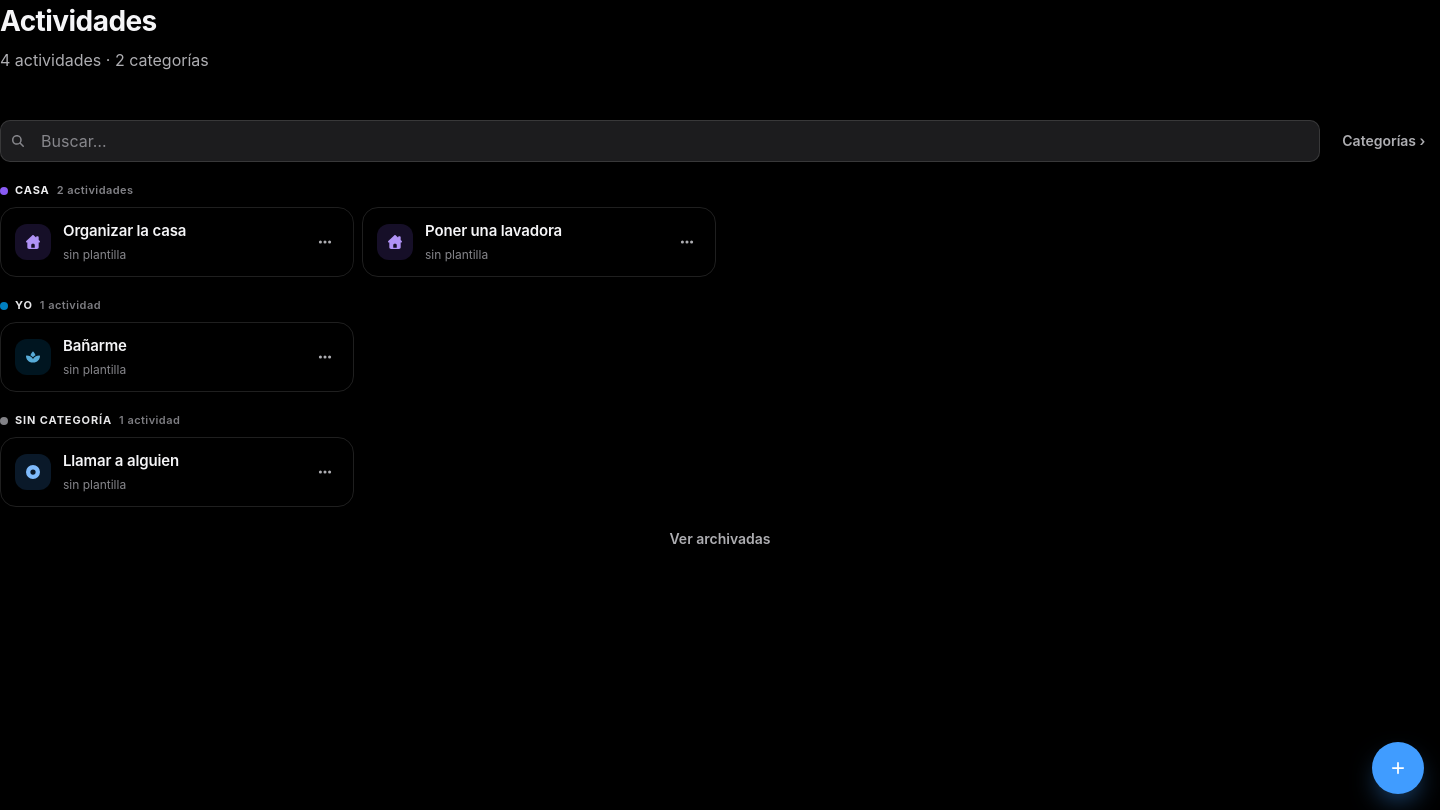
Test: VidaActividadesPage › el «···» de una tarjeta abre la misma hoja ya rellena (criterio 15)
Click the button named "Más opciones de Bañarme" at x=325, y=357, box [311,343,339,371]
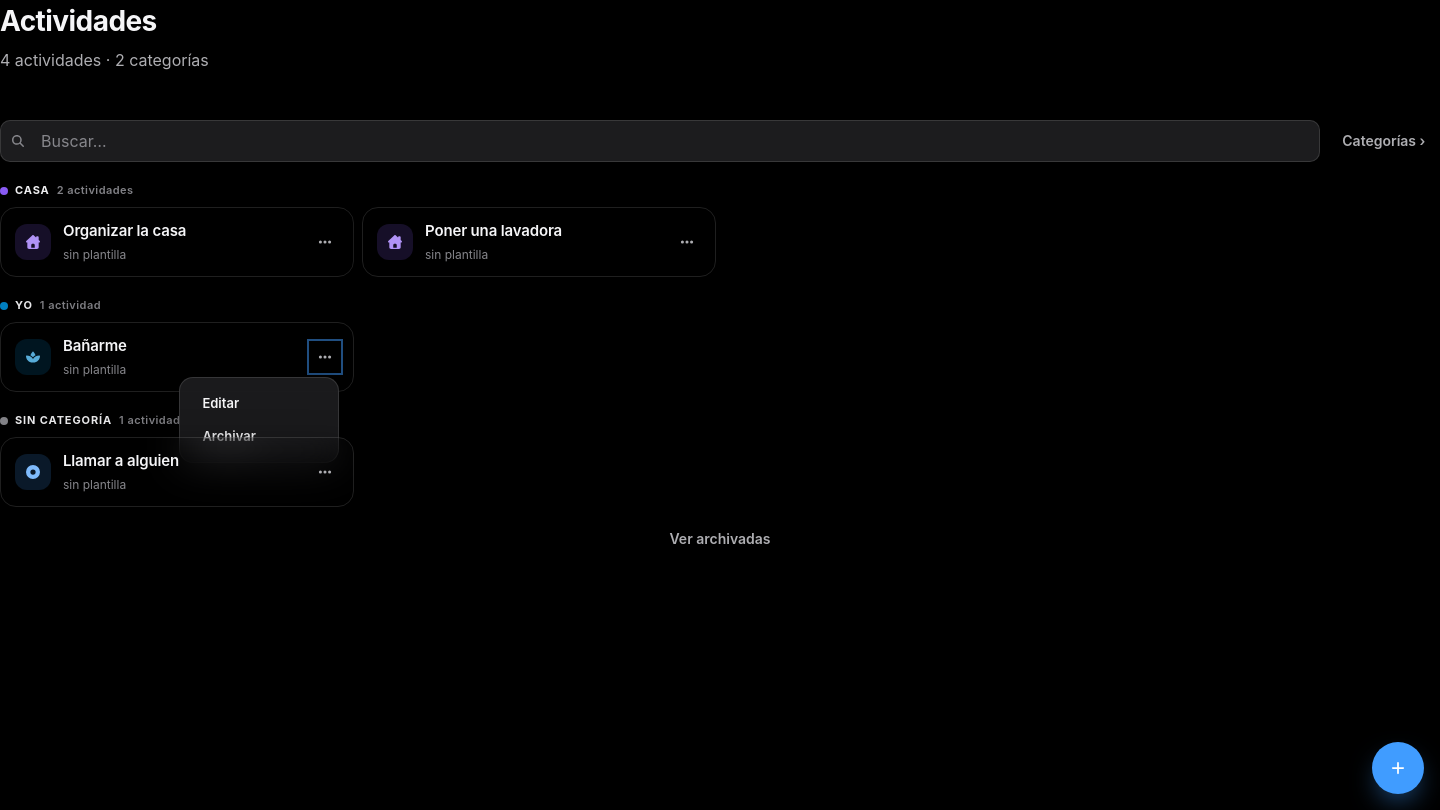
Click the button "Editar" at x=259, y=403, box [194,388,324,418]
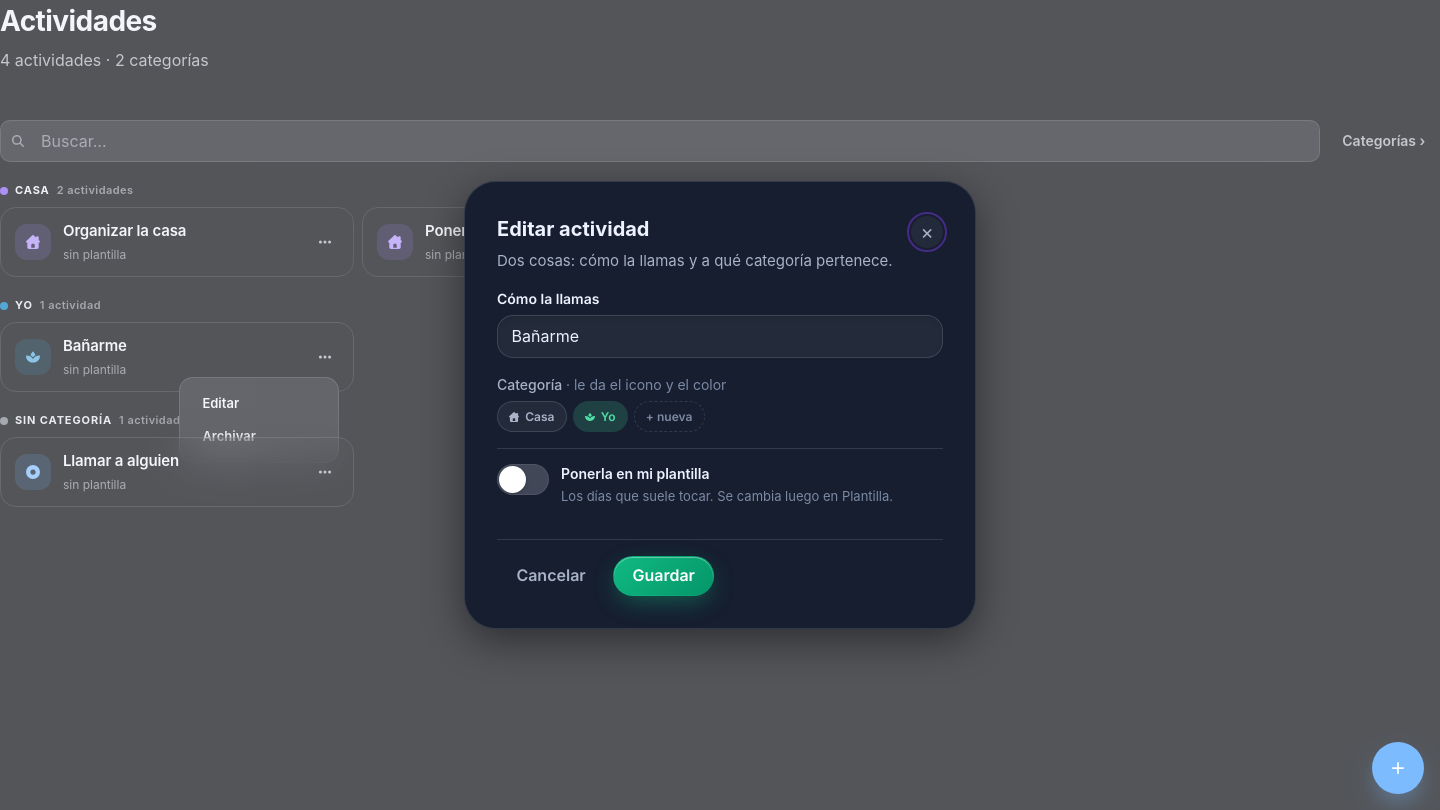
Check: the heading "Editar actividad" is shown, box [497,217,650,241]
Check: the field labelled "Cómo la llamas" holds "Bañarme", box [497,315,943,358]
